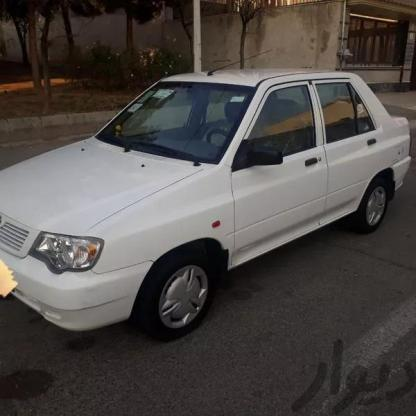Car: (0, 71, 416, 348)
